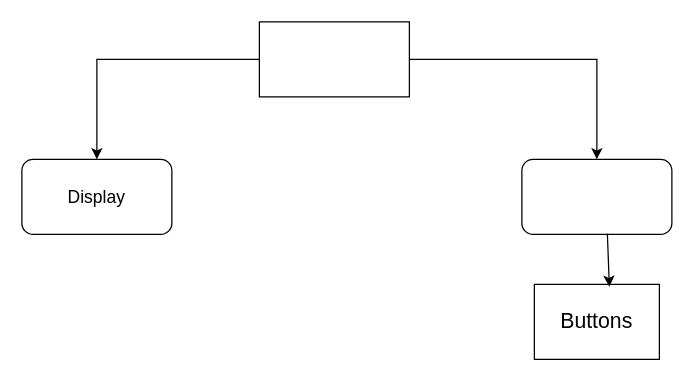
Image size: 694x381. Some labels were removed from this diagram. Each missing label, with the box of its shape:
App: (258, 21, 409, 97)
Body: (521, 158, 672, 234)
